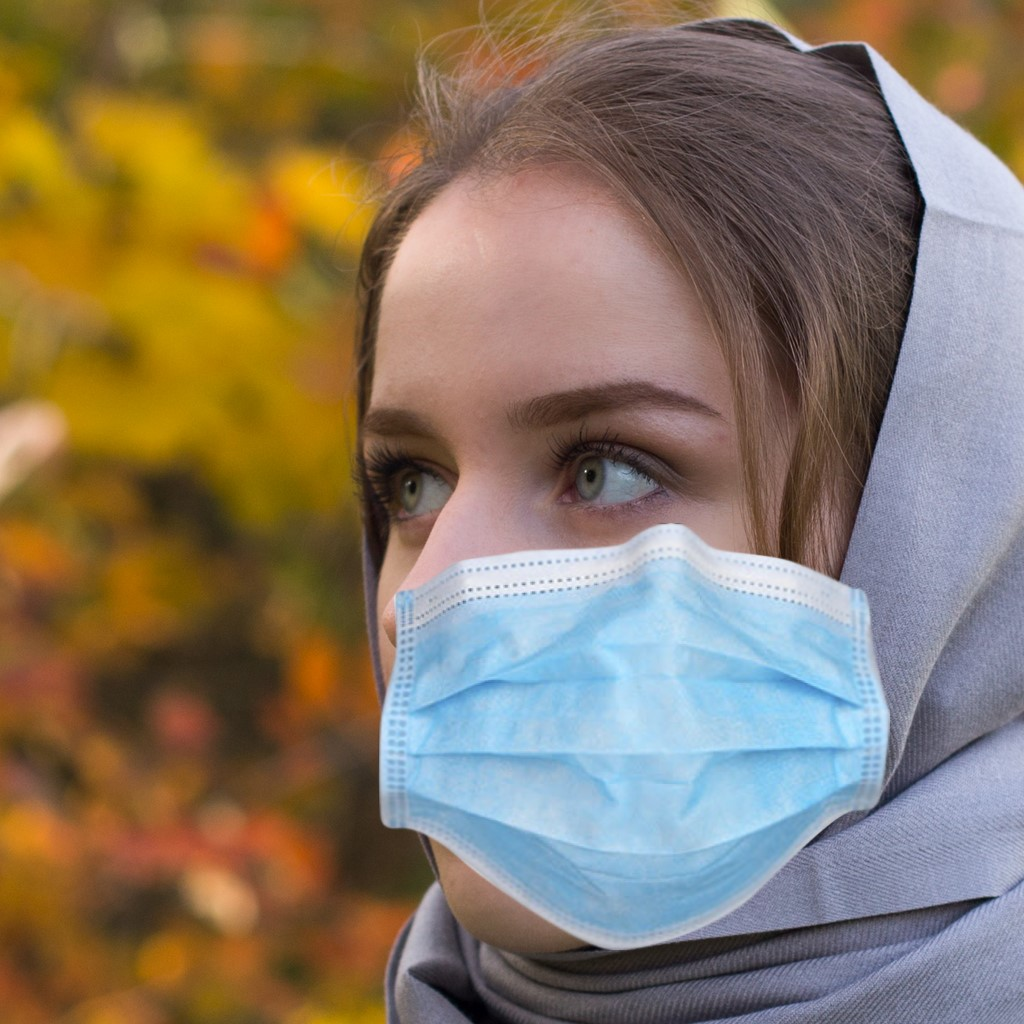con_mascara: (348, 90, 870, 954)
